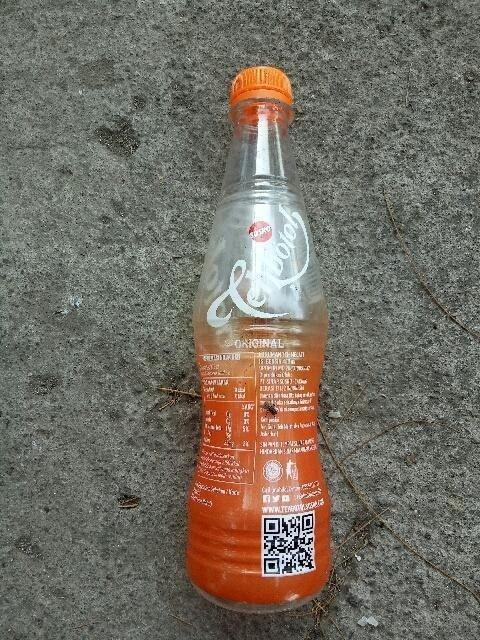bottle-plastic: (185, 66, 330, 615)
